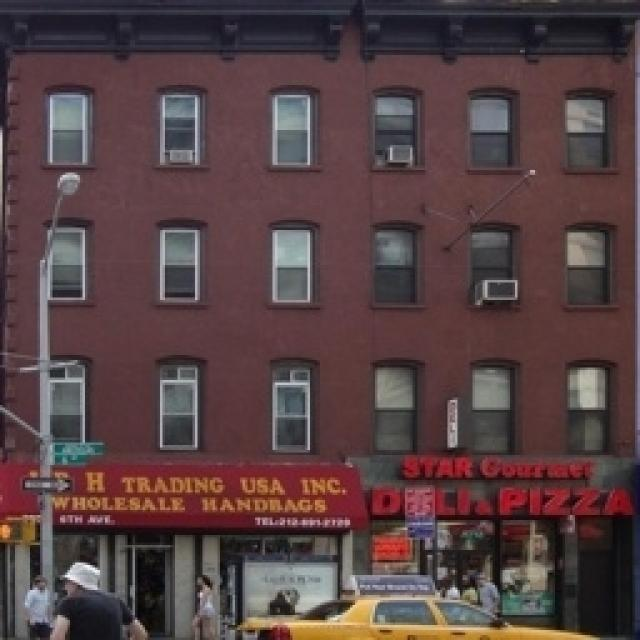Window: (472, 522, 558, 600), (375, 368, 415, 450), (568, 232, 610, 306), (374, 230, 418, 300), (472, 370, 510, 450), (275, 368, 310, 450), (160, 365, 195, 445), (572, 370, 606, 450), (568, 100, 608, 165), (472, 100, 510, 165), (275, 230, 310, 300), (162, 232, 198, 300), (52, 97, 86, 165), (49, 368, 82, 438), (275, 98, 310, 162), (50, 230, 80, 298), (472, 232, 512, 280), (165, 98, 200, 150), (378, 98, 412, 142)
